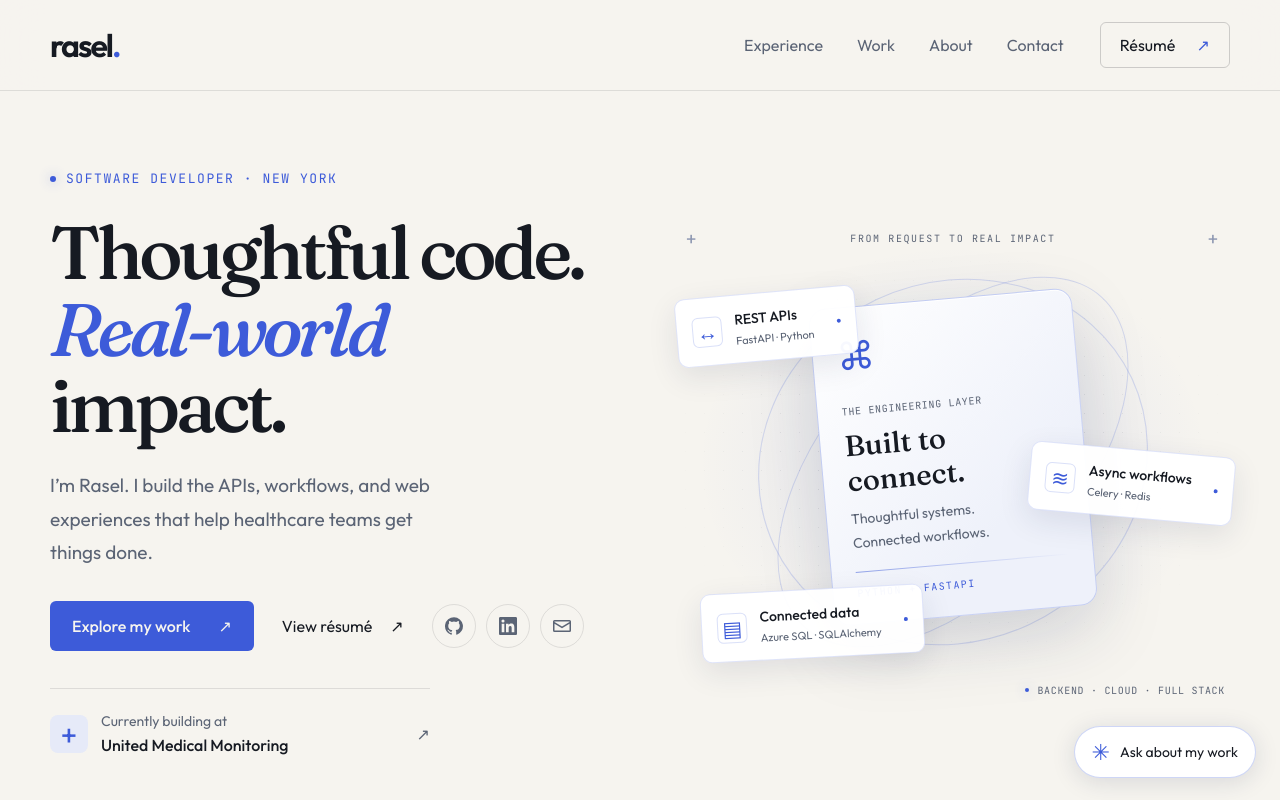
Test: portfolio navigation and contact › shows an honest offline assistant and returns focus when closed
Click the button "✳ Ask about my work". click: (1165, 752)
box: [1074, 726, 1256, 778]
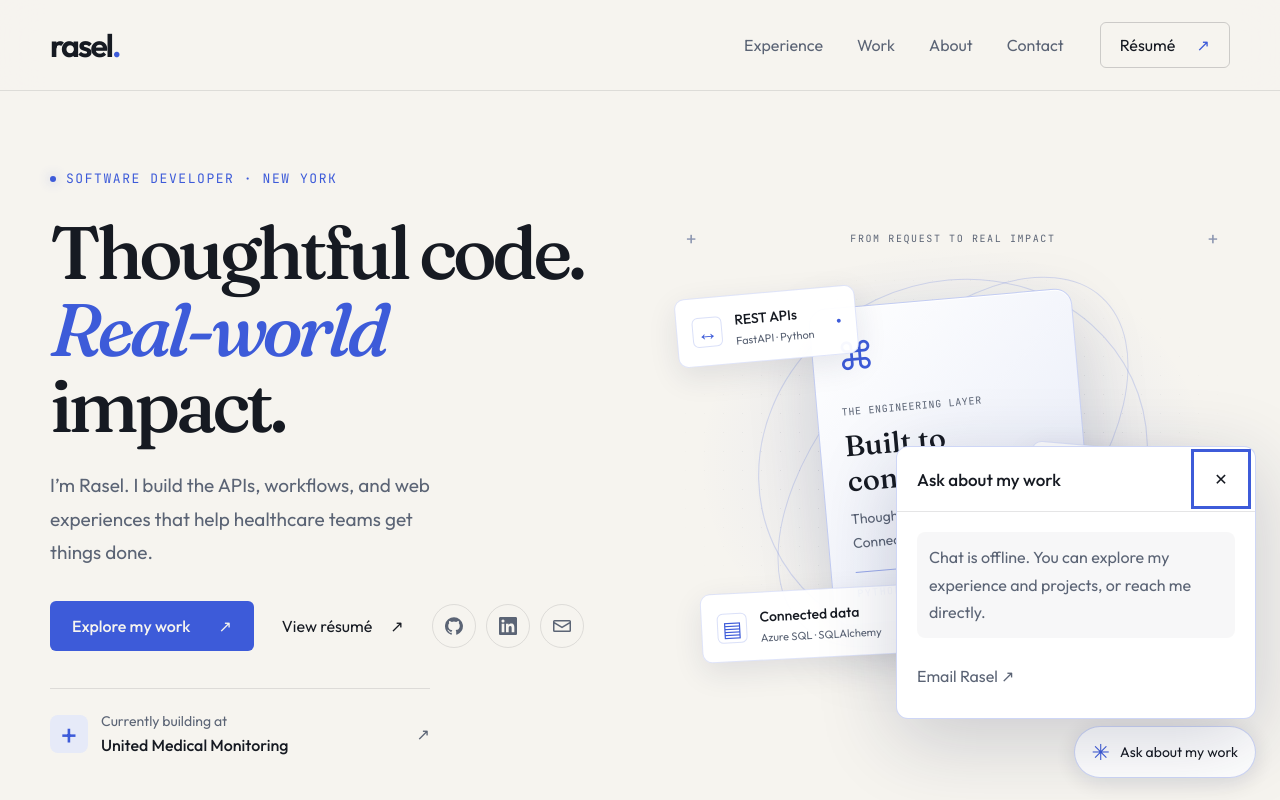
Result: the text "Chat is offline" is shown at [929, 547, 1194, 622]
Press Escape
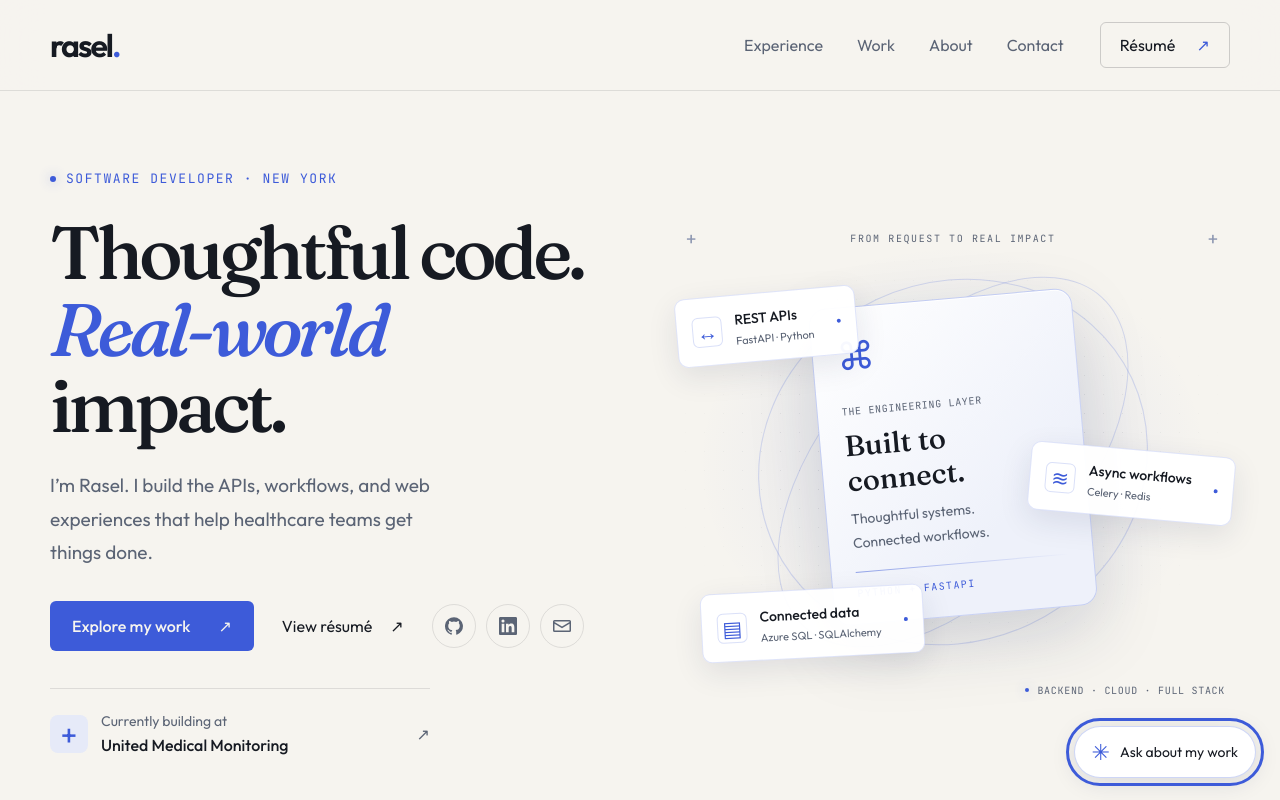
Result: the button "✳ Ask about my work" is collapsed at [1074, 726, 1256, 778]
